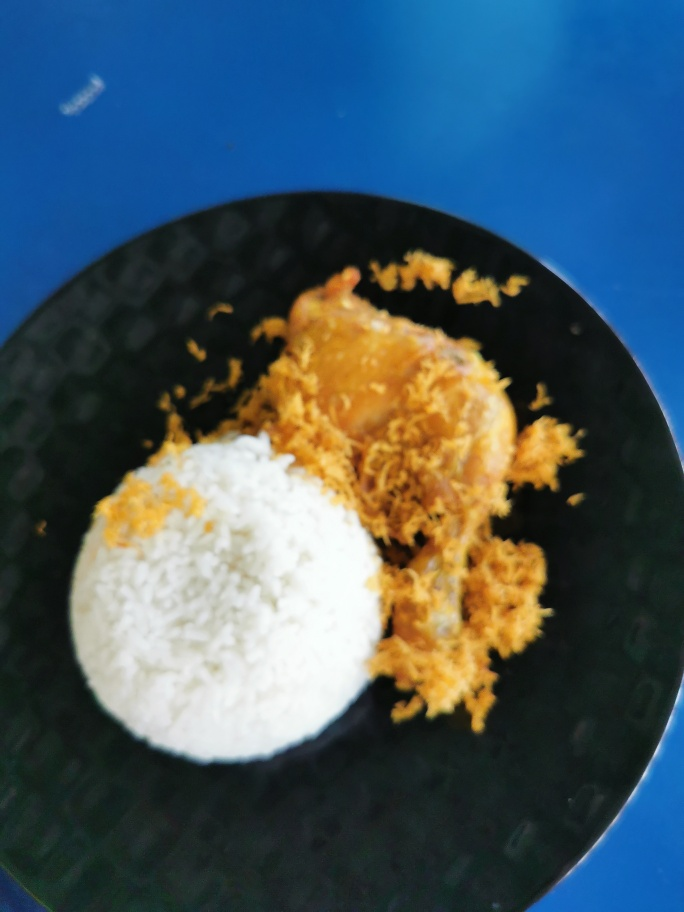ayam goreng: (273, 262, 560, 713)
nasi putih: (84, 425, 379, 774)
